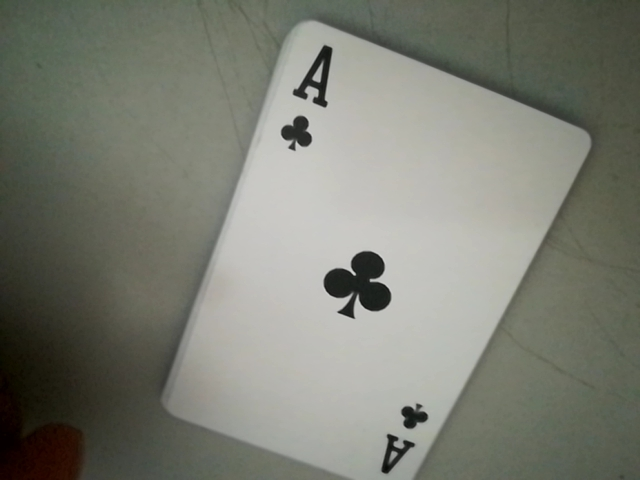mh a: (267, 30, 338, 162), (378, 398, 438, 480)
